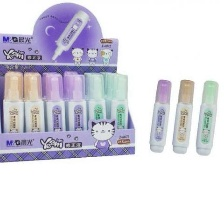book: (0, 1, 138, 166)
correction_fluid: (169, 78, 197, 156), (193, 79, 220, 156), (42, 72, 67, 154), (2, 70, 26, 155), (83, 71, 109, 148), (21, 71, 45, 154), (146, 78, 172, 154), (65, 72, 89, 149), (109, 71, 128, 147)
